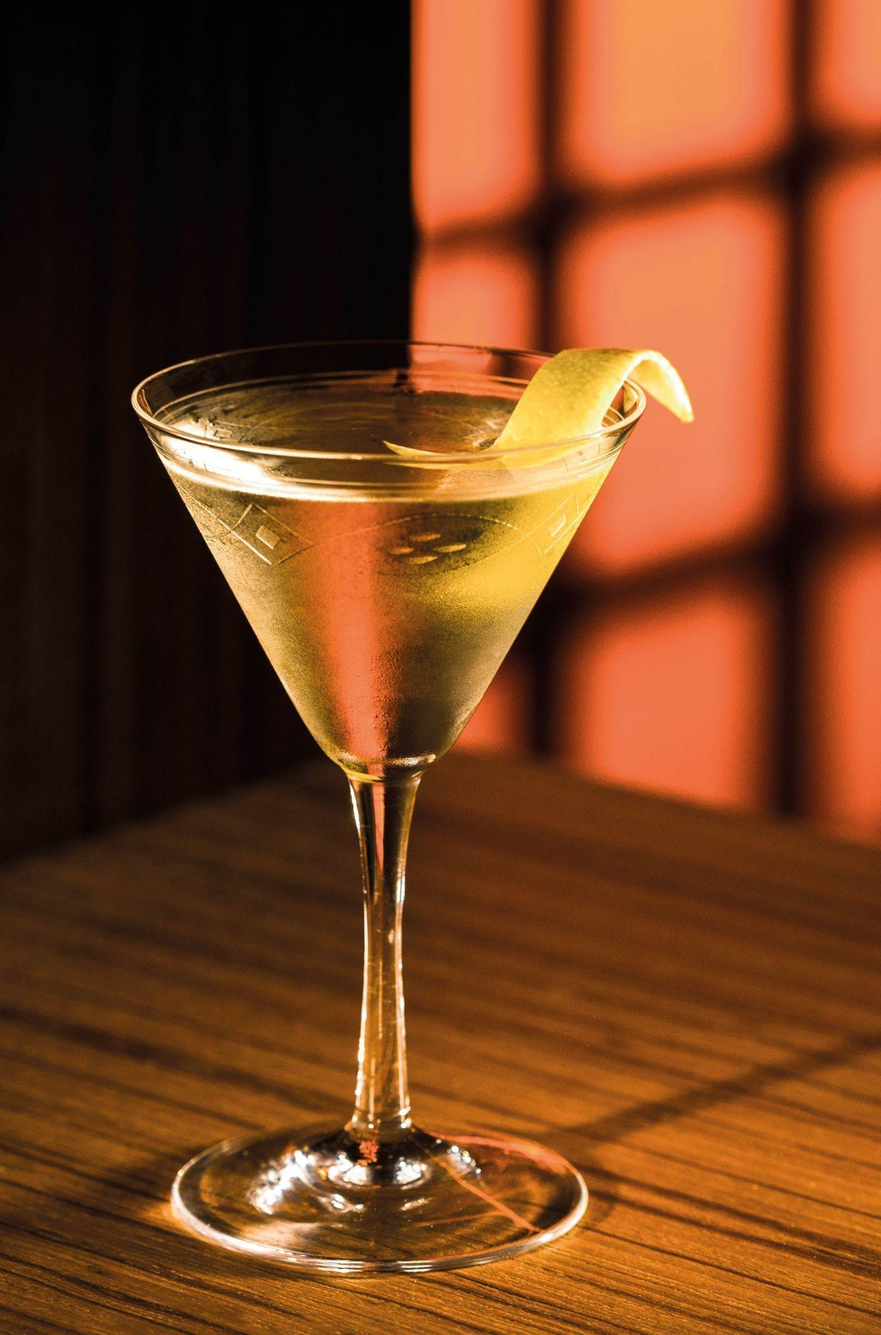glass-wine: (130, 336, 649, 1278)
